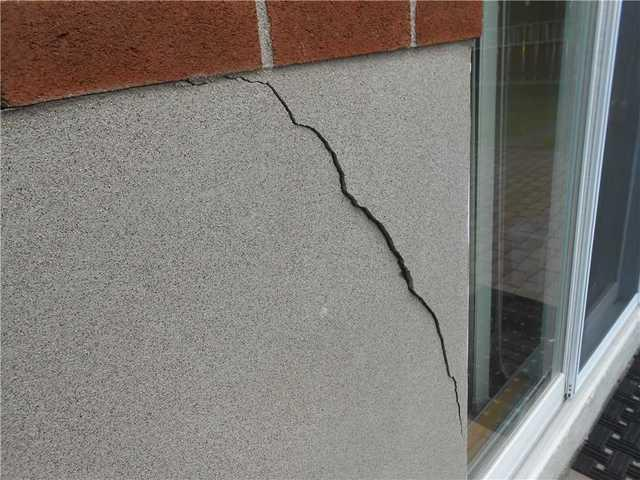crack: (224, 75, 462, 432)
